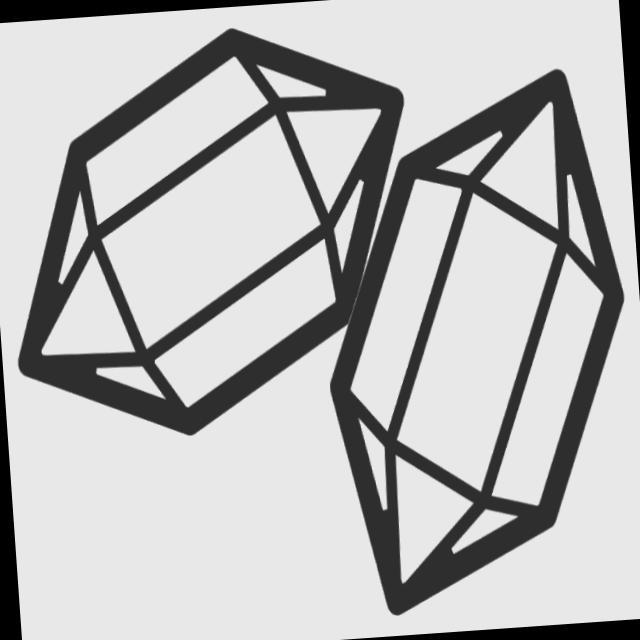crystal: (1, 5, 461, 464), (292, 56, 640, 629)
